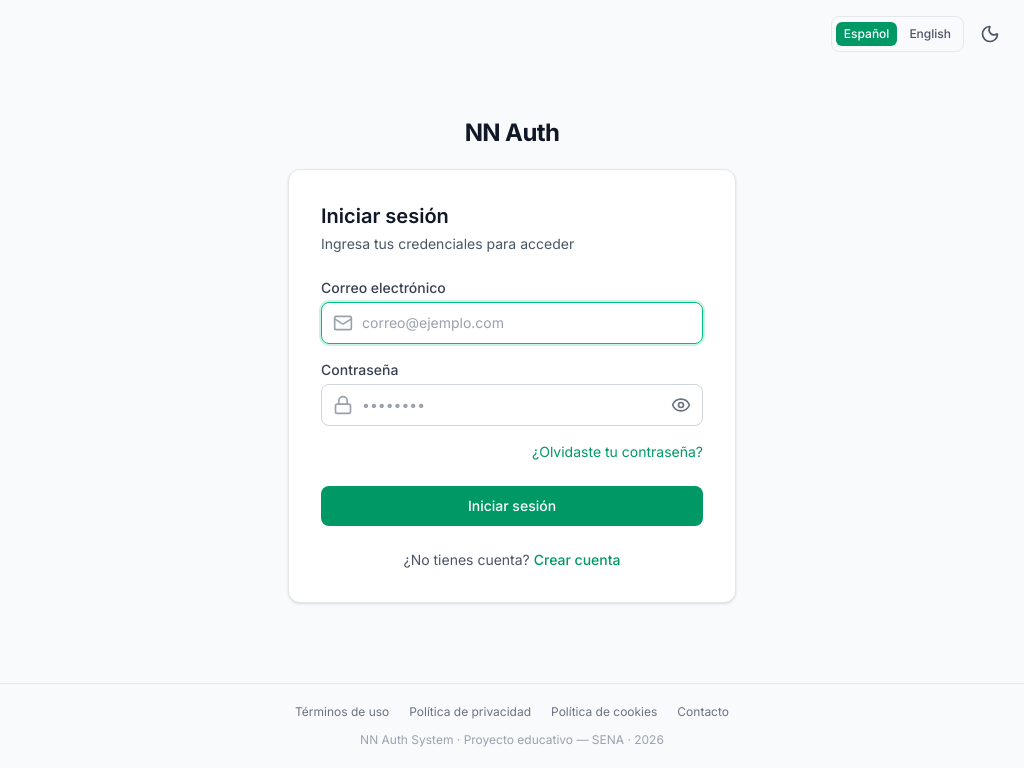
Test case: LoginPage › limpia el error al escribir de nuevo
In the field labelled "Correo electrónico": (512, 322) left=321, top=302, right=703, bottom=344, type "x"
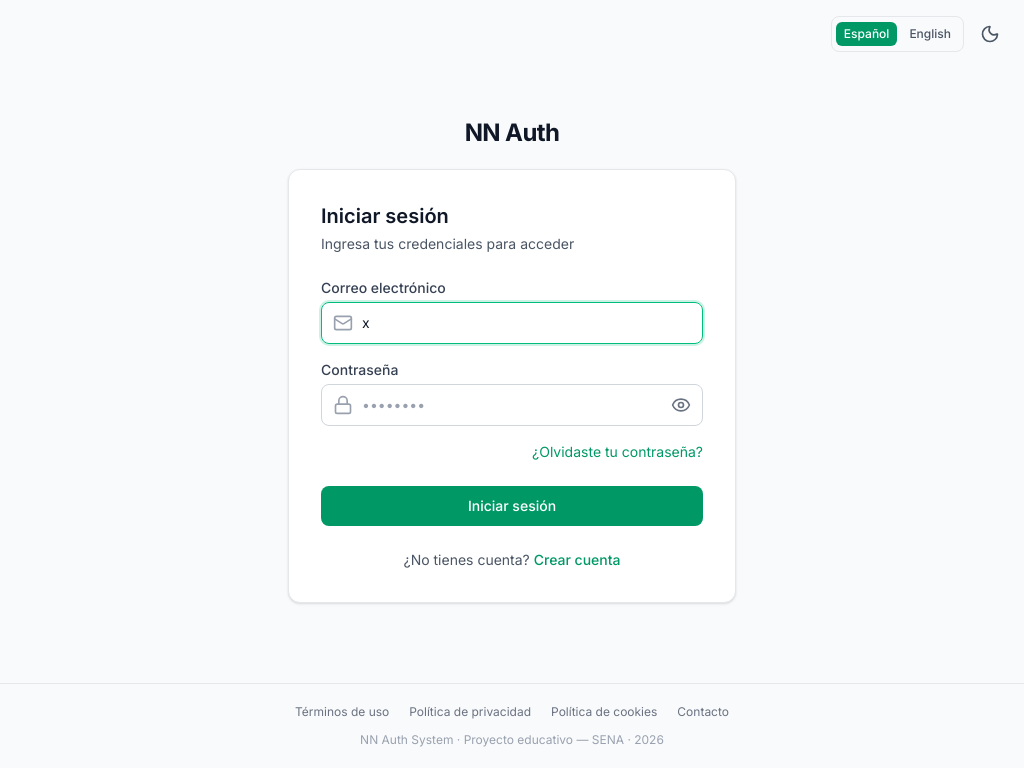
In the password field labelled "Contraseña": (512, 404) left=321, top=384, right=703, bottom=426, type "x"
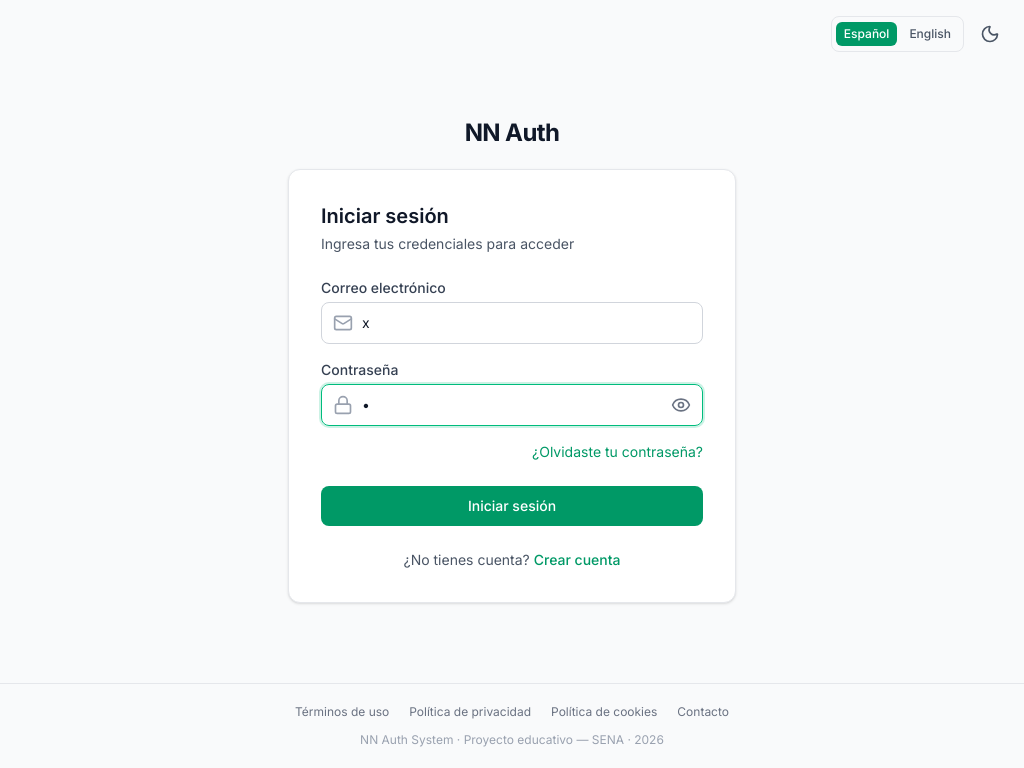
Click the button "Iniciar sesión": (512, 506) left=321, top=486, right=703, bottom=526
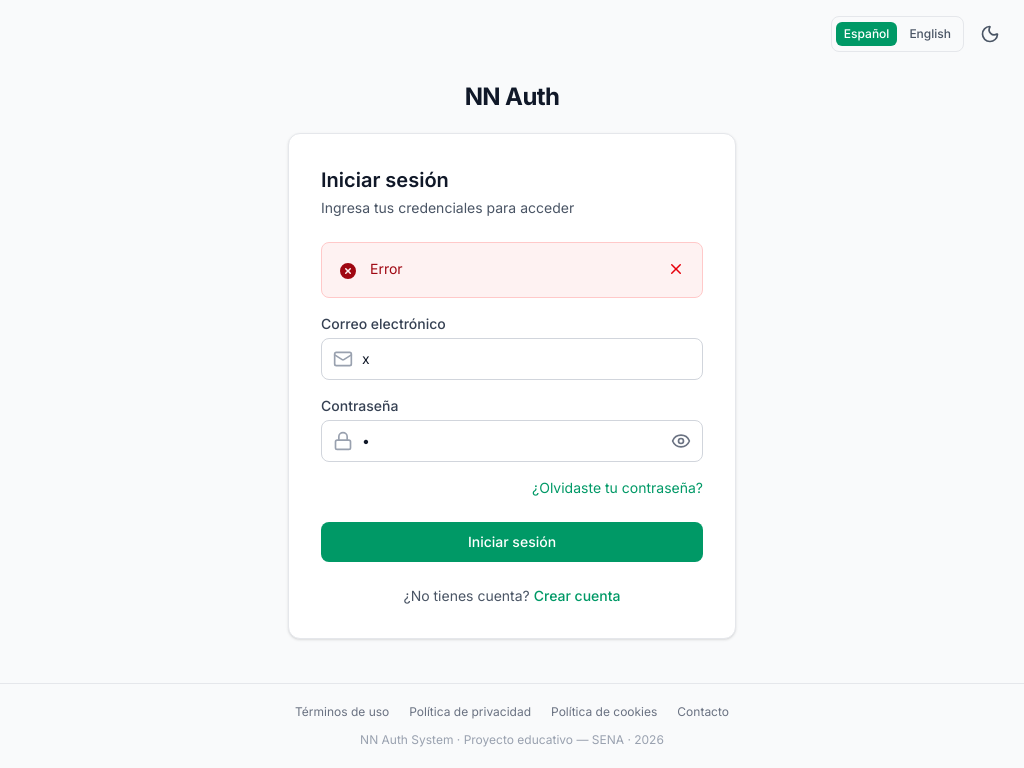
Expected: the text "Error" is shown, left=370, top=260, right=403, bottom=276
// Al escribir de nuevo, el error debe desaparecer.
In the field labelled "Correo electrónico": (512, 358) left=321, top=338, right=703, bottom=380, type "a"
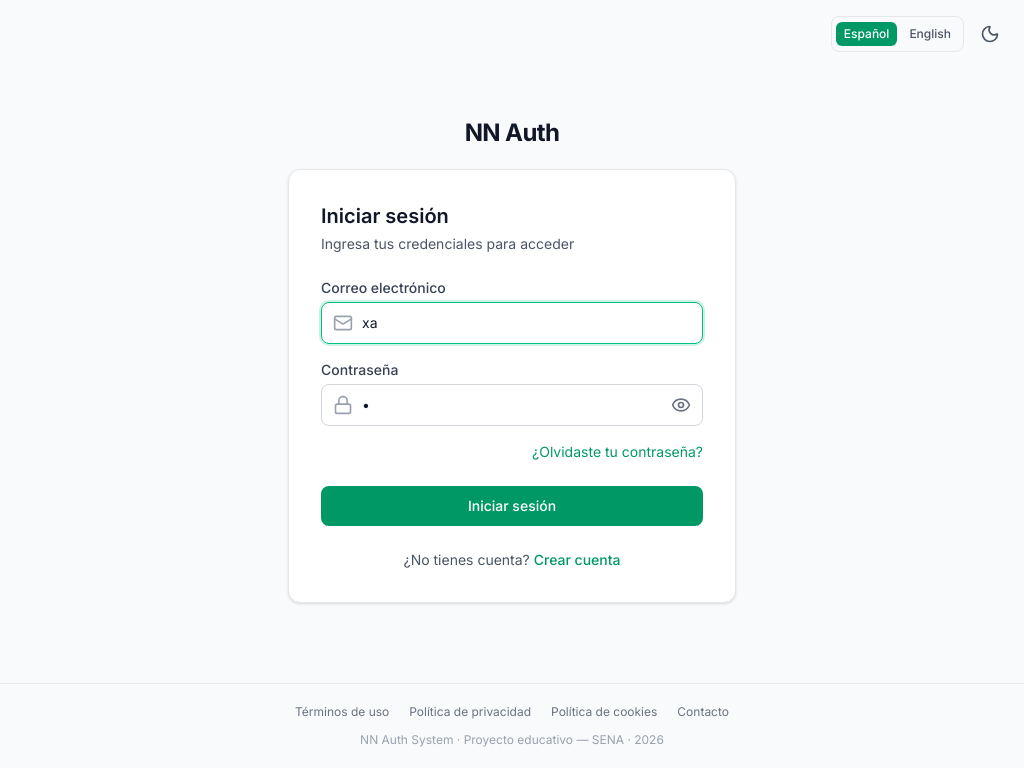
Expected: the text "Error" is gone
